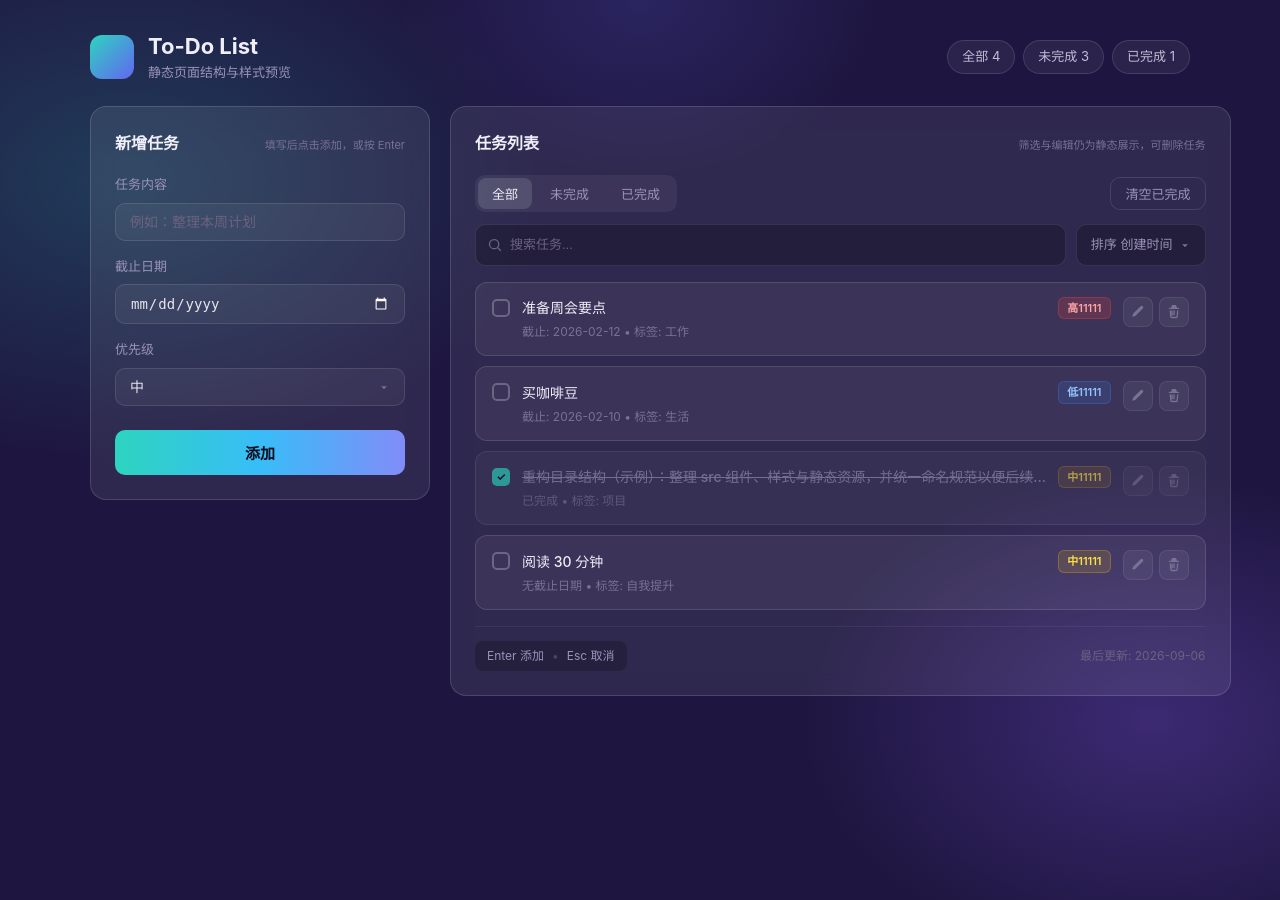
it: TodoList › 填写内容后点击添加会插入新任务
Type "写单元测试" into the field with id "task-title".
click(260, 222); type("写单元测试")  # box [115,203,405,241]
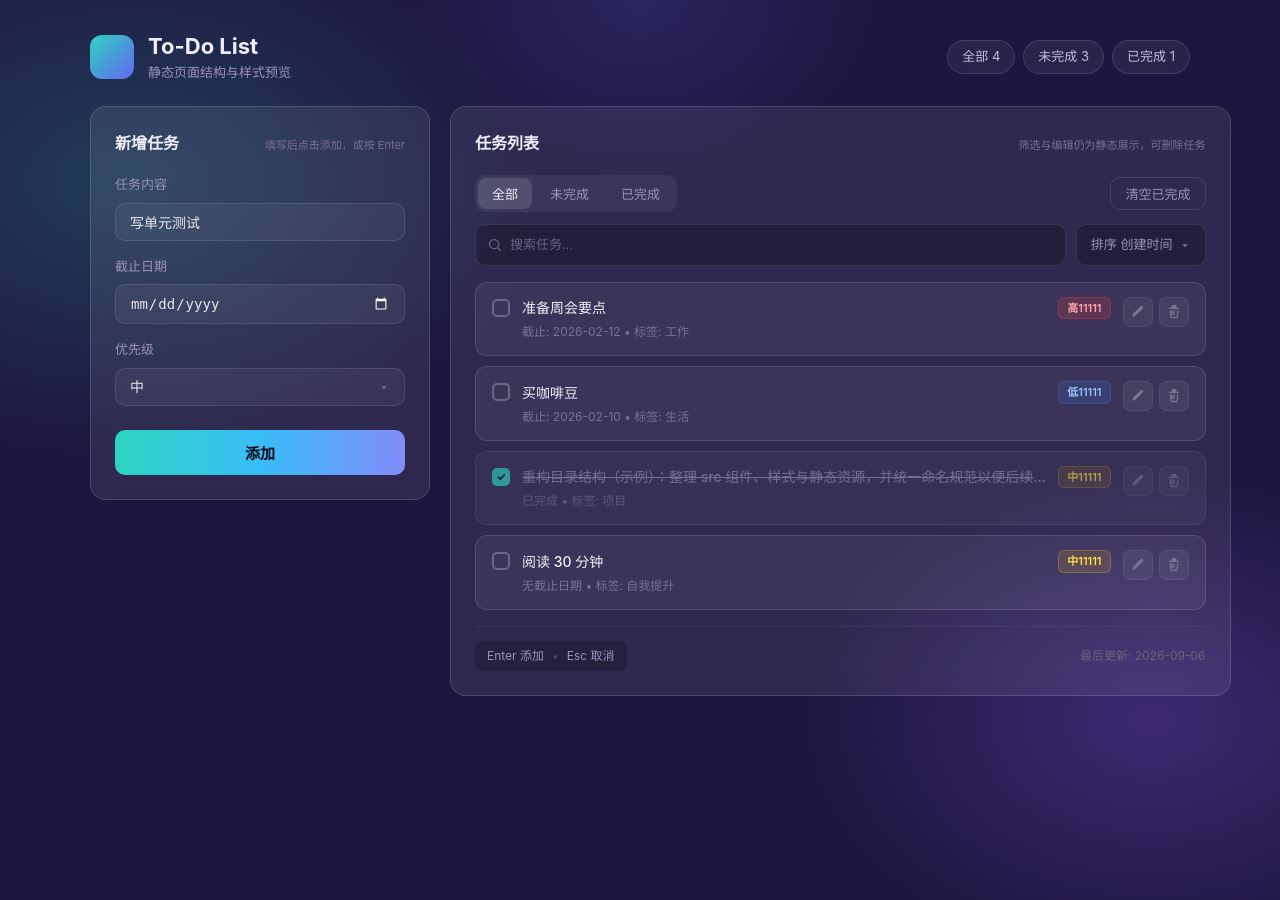
Type "2026-09-07" into the date field with id "task-deadline".
click(260, 304); type("2026-09-07")  # box [115,284,405,324]
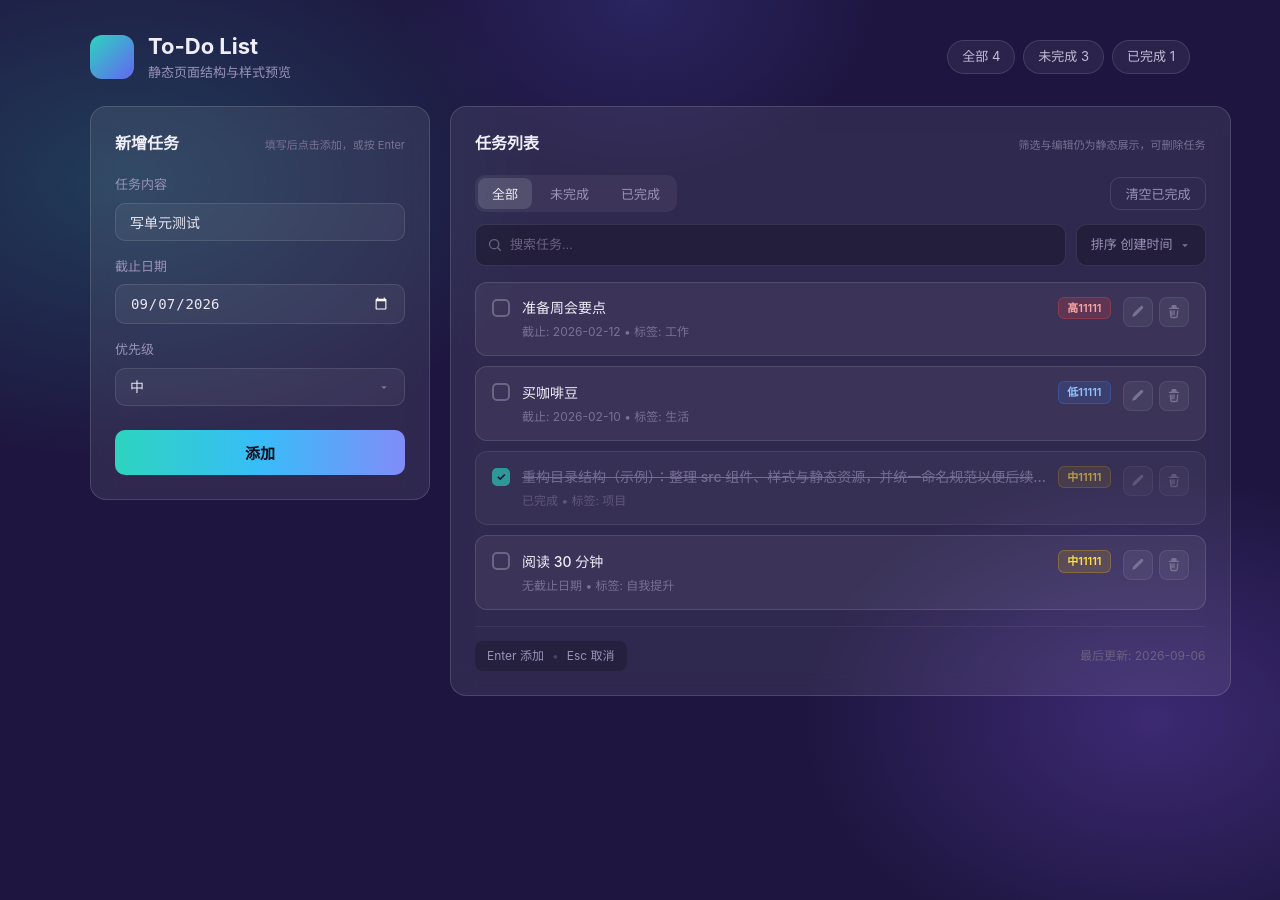
Select "高" in the dropdown with id "task-priority" at (260, 387), box [115,368,405,406]
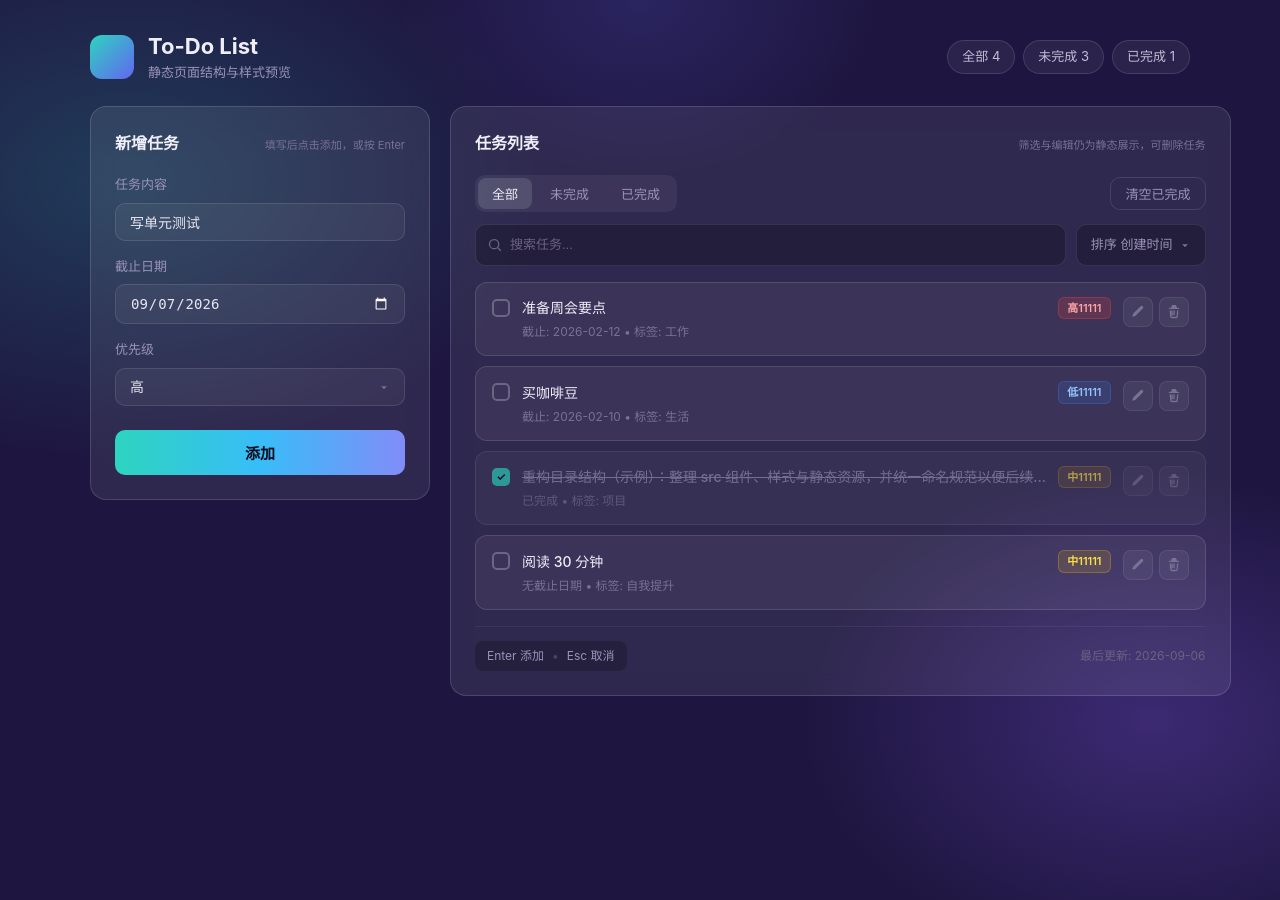
Click the button with class "btn-add".
click(260, 452)  # box [115,430,405,475]
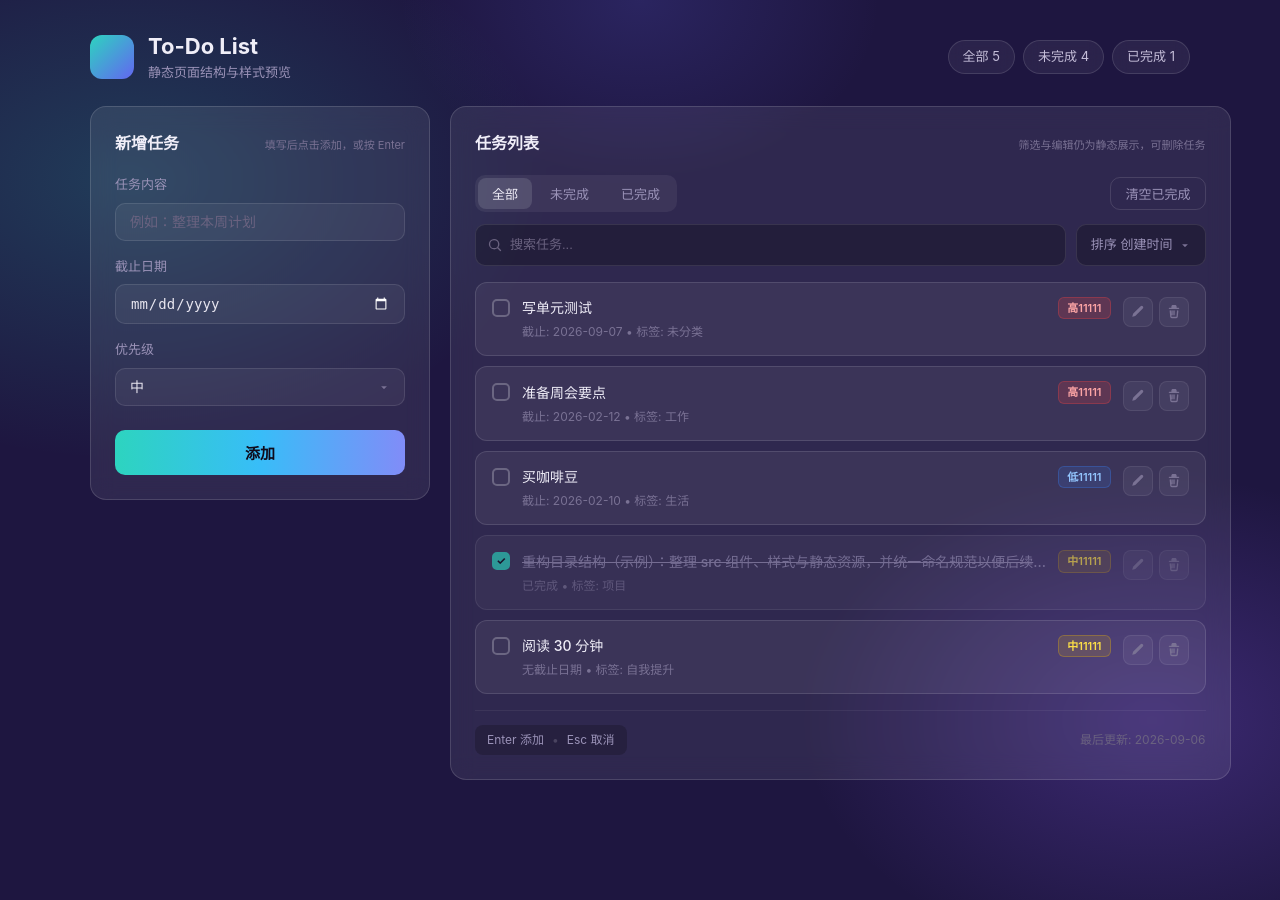
Expected: the number of list items with class "task-item" is 5, [475,282,1206,356]; [475,366,1206,441]; [475,451,1206,525]; [475,535,1206,610]; [475,620,1206,694]
Expected: the text "写单元测试" is shown, [522,299,592,316]
Expected: the text "全部 5" is shown, [948,40,1015,74]
